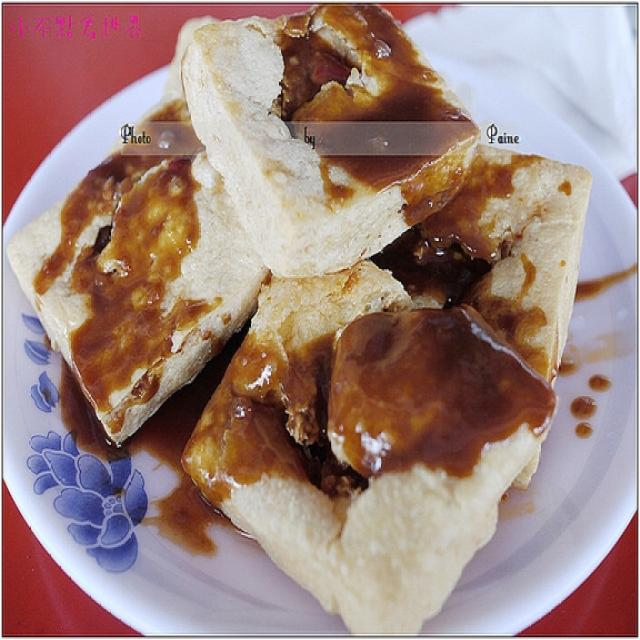豆腐料理: (8, 5, 630, 631)
